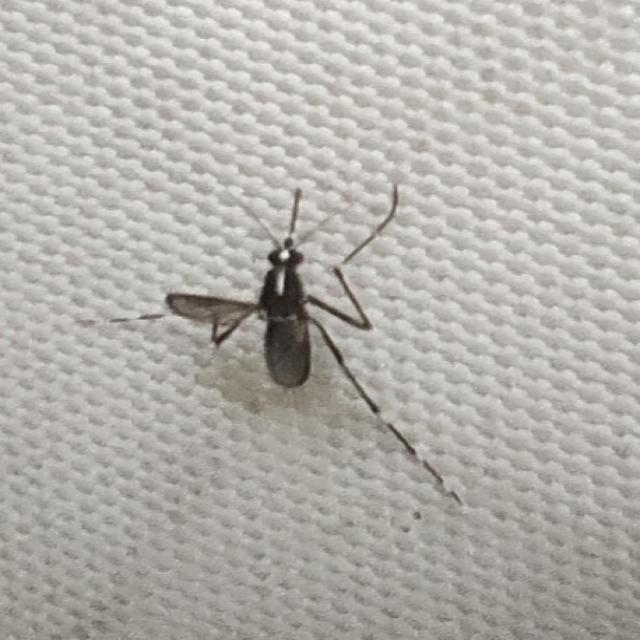albopictus: (110, 154, 474, 508)
